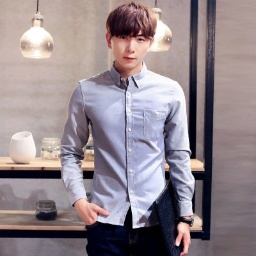face: (104, 2, 158, 71)
